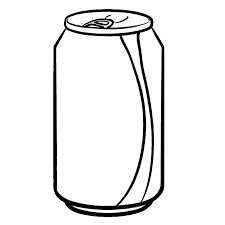can: (49, 8, 167, 218)
